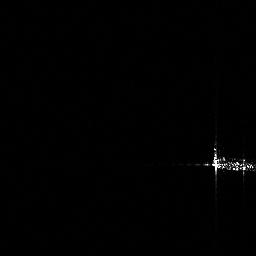ship: (186, 138, 256, 192)
